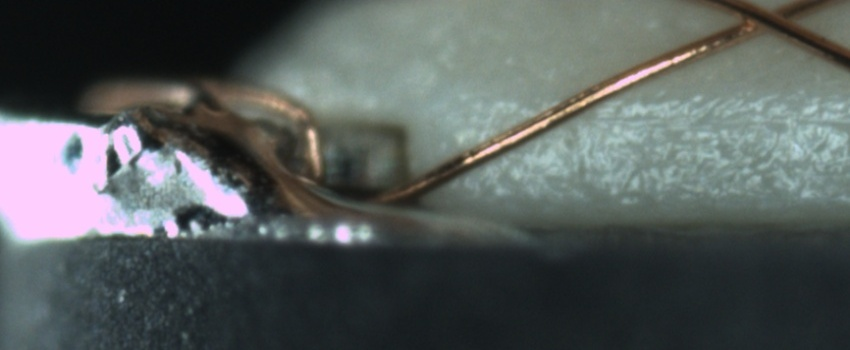CL: (711, 0, 817, 42)
DL: (494, 83, 850, 146)
TE: (198, 68, 336, 196)
